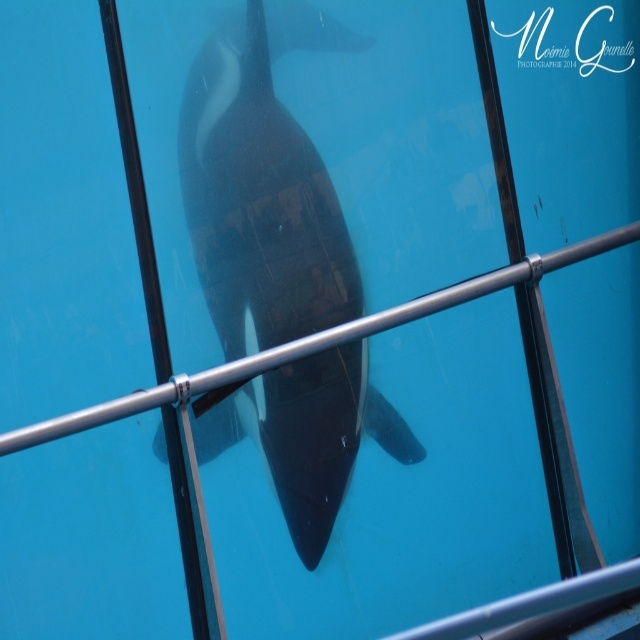Whale: (152, 1, 427, 573)
